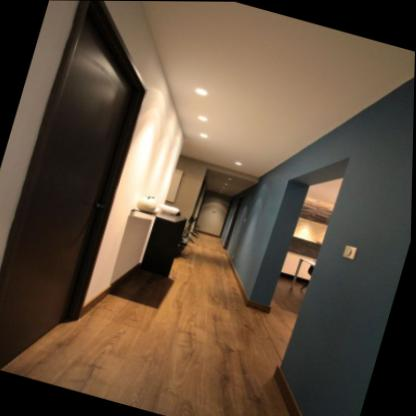Wooden floor: (0, 233, 307, 416)
